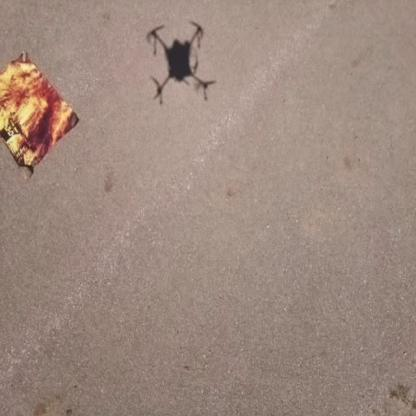fire-poster: (0, 50, 80, 178)
